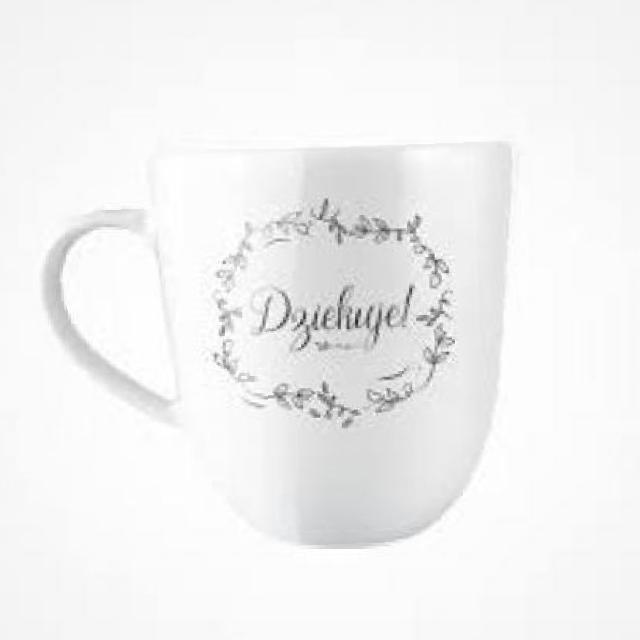cup: (30, 141, 531, 557)
